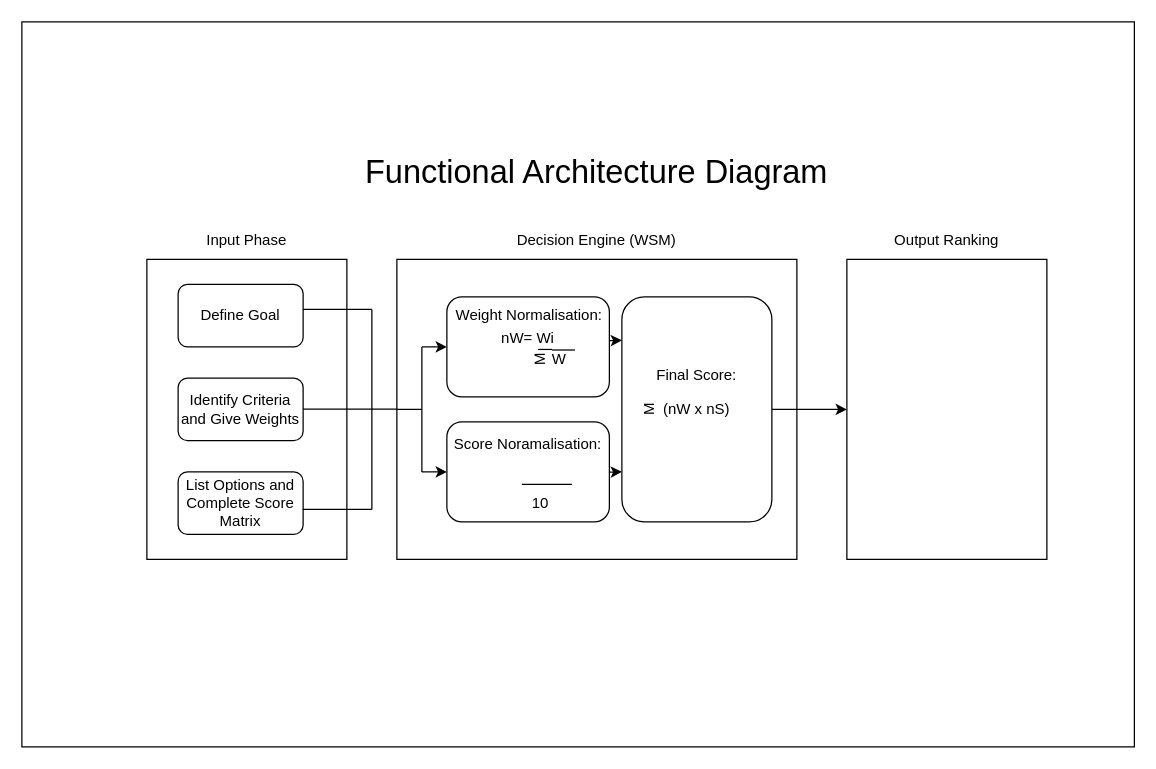
Some shapes in this 1156 by 769 pixel diagram are drawn without their labels. The box of each missing label's shape, as (x1, y1, x2, y2) in pixels:
nS= Score: (446, 421, 609, 522)
Rank The options Based On Their Final Score: (846, 258, 1047, 559)
